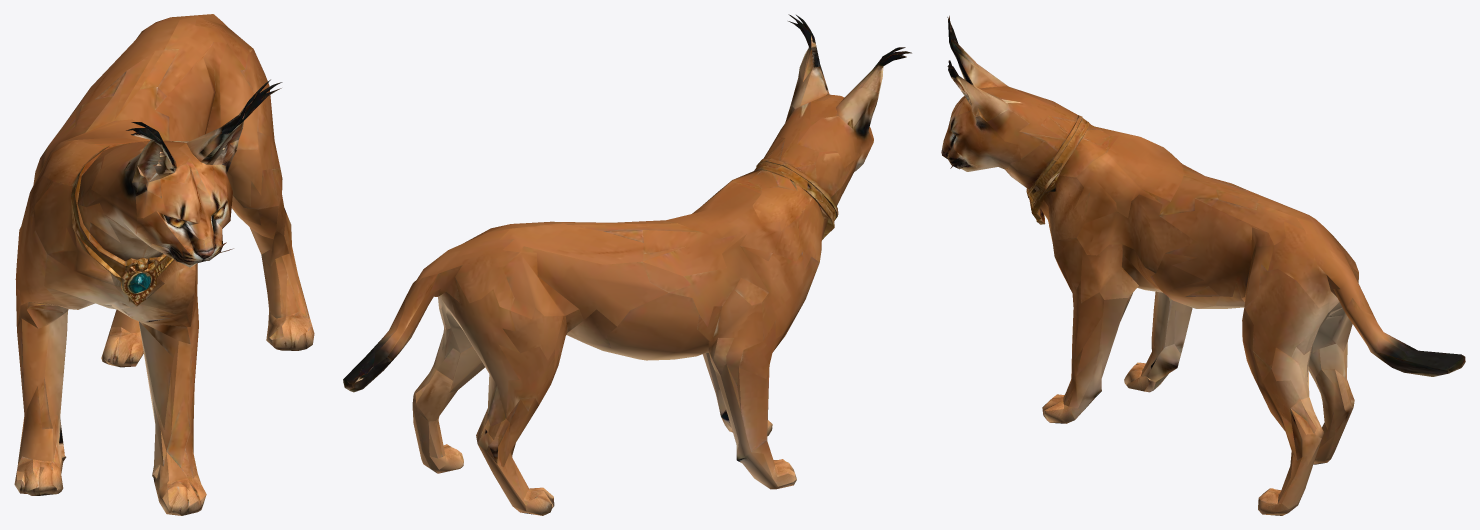
The model's file is caracal.glb.
The picture shows the model from 3 angles, left to right: view 1: azimuth 30°, elevation 25°; view 2: azimuth 150°, elevation 25°; view 3: azimuth 270°, elevation 25°; orthographic projection. The views are drawn at different scales.
Size of the model in its own units: 1.27 by 1.44 by 1.88.
Materials: 1 (1 with a texture image).
